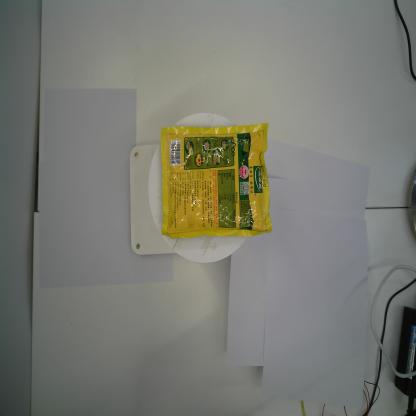Seasoner: (160, 121, 274, 240)
